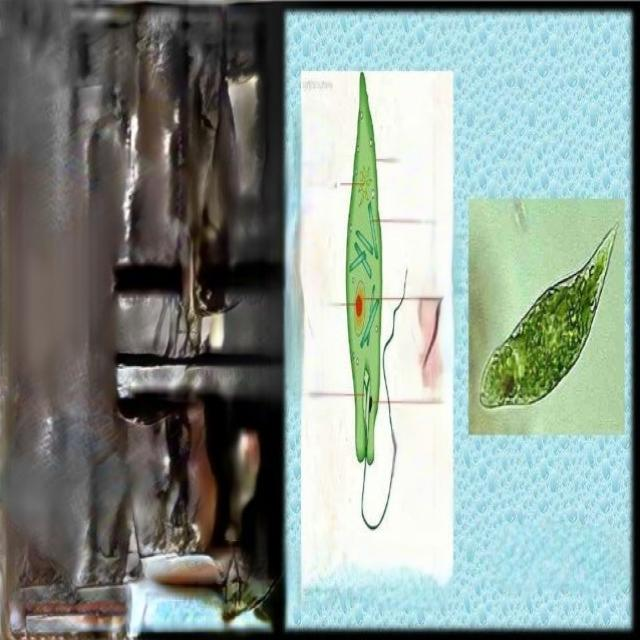Amoeba: (479, 223, 620, 412)
Rod_bacteria: (343, 73, 409, 532)
